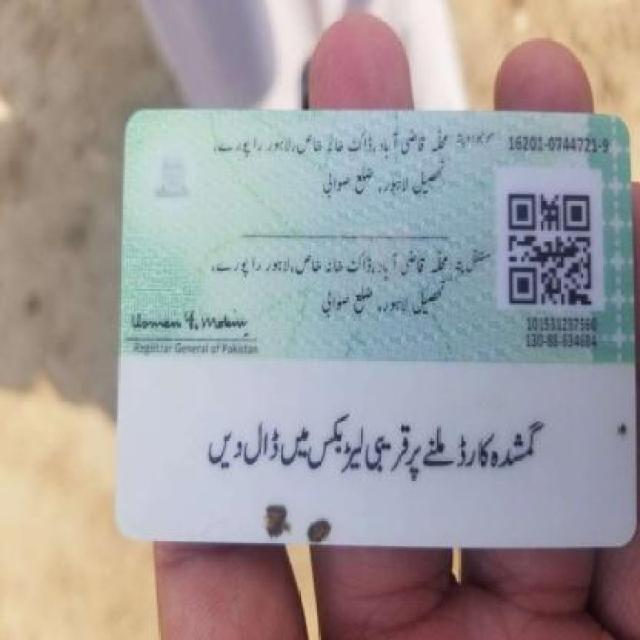Back: (112, 98, 637, 554)
